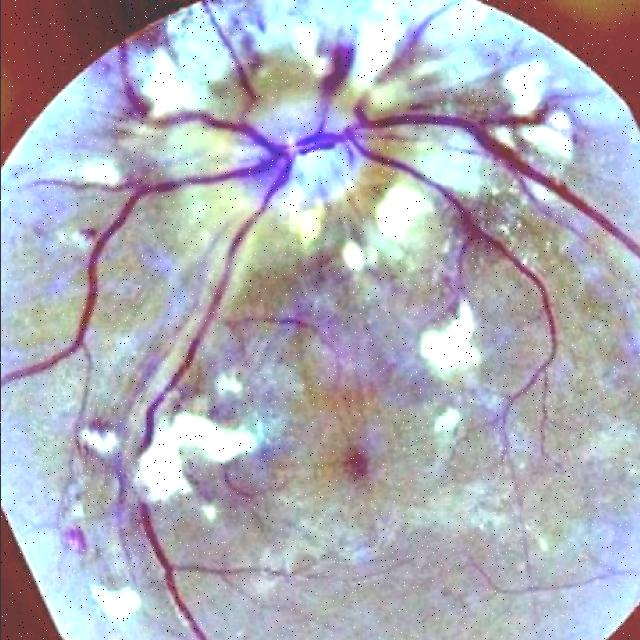Macula: (320, 410, 410, 516)
Nerves: (0, 0, 640, 640)
Optic Disk: (201, 71, 394, 247)
